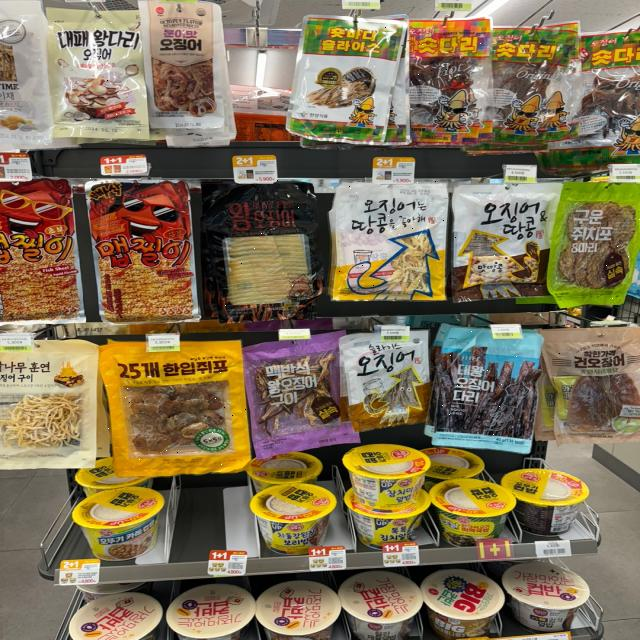product: (106, 348, 248, 469), (84, 178, 200, 316), (210, 178, 323, 308), (44, 8, 154, 136), (338, 180, 448, 298), (436, 328, 542, 443), (455, 184, 555, 300), (302, 14, 398, 132), (246, 337, 344, 448), (536, 330, 640, 430), (559, 184, 640, 306), (410, 24, 496, 138)
